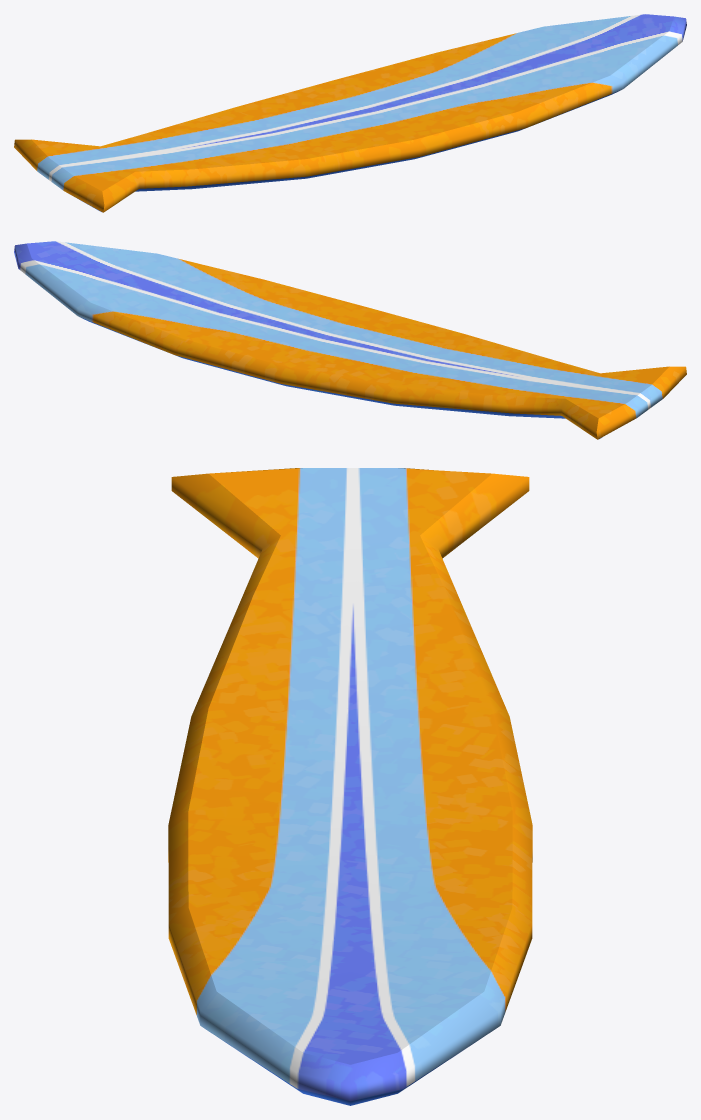
Rendered from surfboard02.fbx.
3 renders of one model, top to bottom at view 1: azimuth 30°, elevation 25°; view 2: azimuth 150°, elevation 25°; view 3: azimuth 270°, elevation 25°, orthographic. The views are drawn at different scales.
Visible parts, largest first — view 1: surfboard_01; view 2: surfboard_01; view 3: surfboard_01.
Boxes of the visible parts, <box> form: surfboard_01: <box>14,14,686,212</box>; surfboard_01: <box>14,241,686,439</box>; surfboard_01: <box>168,468,532,1105</box>.
Size of the model in its own units: 518 by 30.96 by 128.
Materials: 1 (1 with a texture image).
